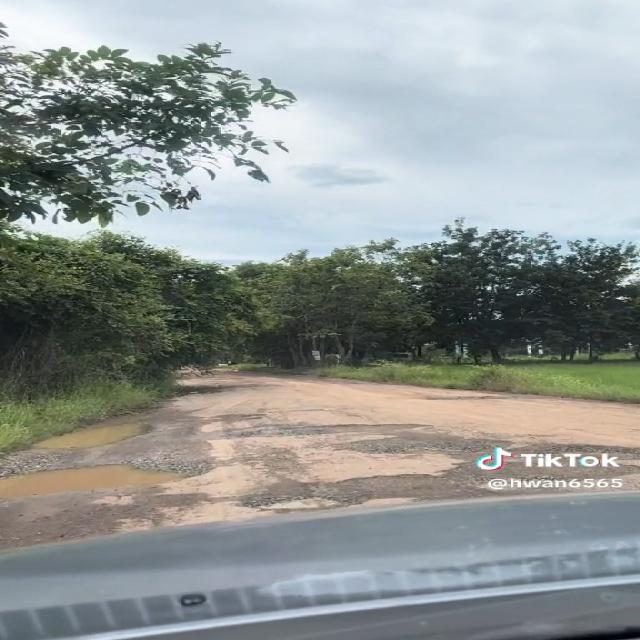Poth-hole: (298, 404, 394, 425)
